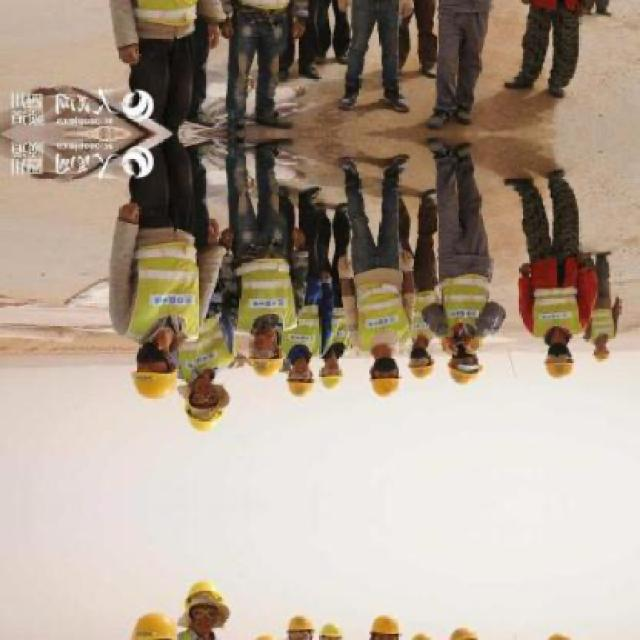con casco: (109, 316, 185, 395), (167, 359, 239, 434), (351, 329, 416, 403), (231, 314, 297, 382), (269, 339, 320, 412), (438, 322, 486, 383), (516, 333, 586, 374), (409, 334, 453, 397), (300, 347, 337, 393), (572, 333, 608, 372)
